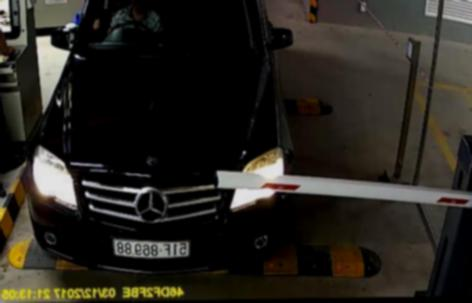License_Plate: (109, 232, 194, 259)
